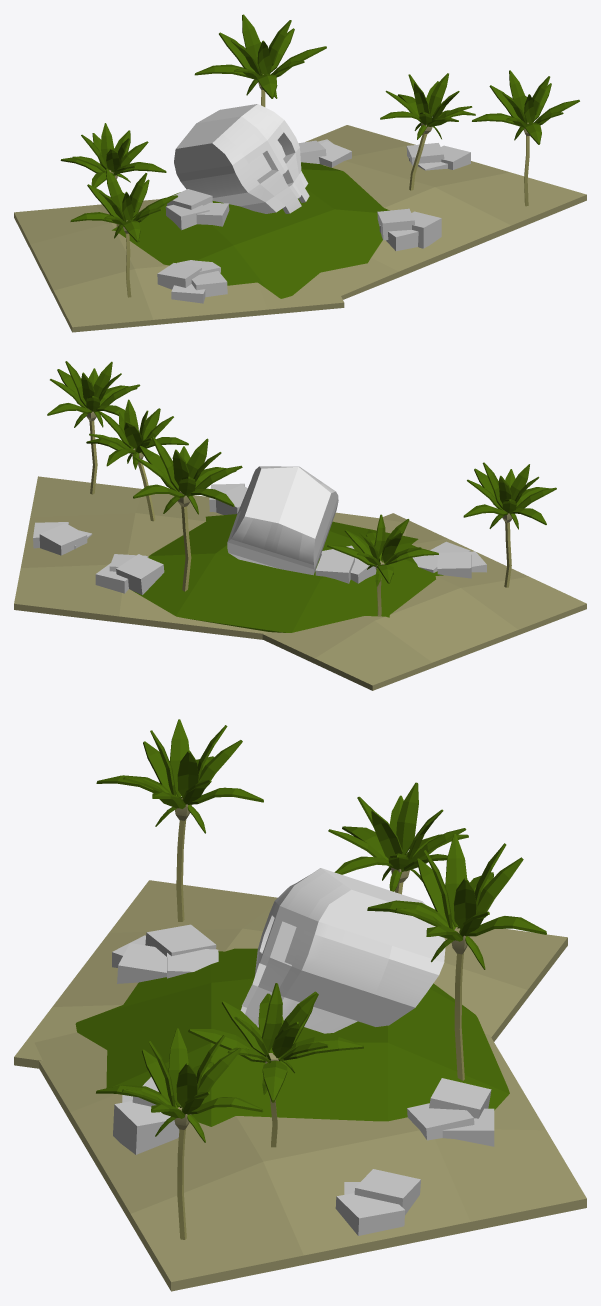
Rendered from PirateIsland.fbx.
3 views of the same model, one above another, from view 1: azimuth 30°, elevation 25°; view 2: azimuth 150°, elevation 25°; view 3: azimuth 270°, elevation 25° (orthographic). The views are drawn at different scales.
Visible parts, largest first — view 1: pCube2, pCube3, pCube1, pCube4, pCube43, pCube39, pCube38, pCube23, pCube37, pCube44, pCube46, pCube45 (+2 smaller); view 2: pCube1, pCube2, pCube3, pCube4, pCube43, pCube38, pCube39, pCube23, pCube37, pCube47, pCube44, pCube48 (+2 smaller); view 3: pCube2, pCube3, pCube4, pCube1, pCube43, pCube39, pCube23, pCube38, pCube37, pCube44, pCube47, pCube48 (+1 smaller).
Boxes of the visible parts, x1,y1,x2,y2 form: pCube2: (292, 125, 586, 302); pCube3: (112, 162, 389, 298); pCube1: (14, 199, 344, 332); pCube4: (174, 104, 309, 213); pCube43: (194, 14, 326, 106); pCube39: (472, 70, 579, 206); pCube38: (70, 169, 177, 297); pCube23: (380, 73, 475, 190); pCube37: (60, 123, 166, 226); pCube44: (157, 260, 227, 303); pCube46: (377, 208, 441, 251); pCube45: (165, 189, 229, 230); pCube1: (262, 513, 586, 690); pCube2: (14, 476, 405, 639); pCube3: (133, 514, 443, 632); pCube4: (227, 466, 338, 575); pCube43: (133, 436, 242, 591); pCube38: (463, 462, 556, 587); pCube39: (47, 361, 140, 494); pCube23: (86, 399, 188, 521); pCube37: (327, 514, 438, 616); pCube47: (95, 554, 164, 594); pCube44: (412, 541, 486, 578); pCube48: (33, 522, 92, 555); pCube2: (34, 1032, 586, 1291); pCube3: (75, 948, 509, 1126); pCube4: (240, 868, 445, 1033); pCube1: (14, 880, 567, 1068); pCube43: (367, 834, 546, 1080); pCube39: (96, 1028, 263, 1239); pCube23: (188, 983, 363, 1147); pCube38: (96, 719, 263, 921); pCube37: (328, 782, 468, 894); pCube44: (112, 924, 218, 983); pCube47: (407, 1078, 494, 1146); pCube48: (335, 1169, 420, 1235).
Bounding box in the file's own units: 779 × 246 × 469.
